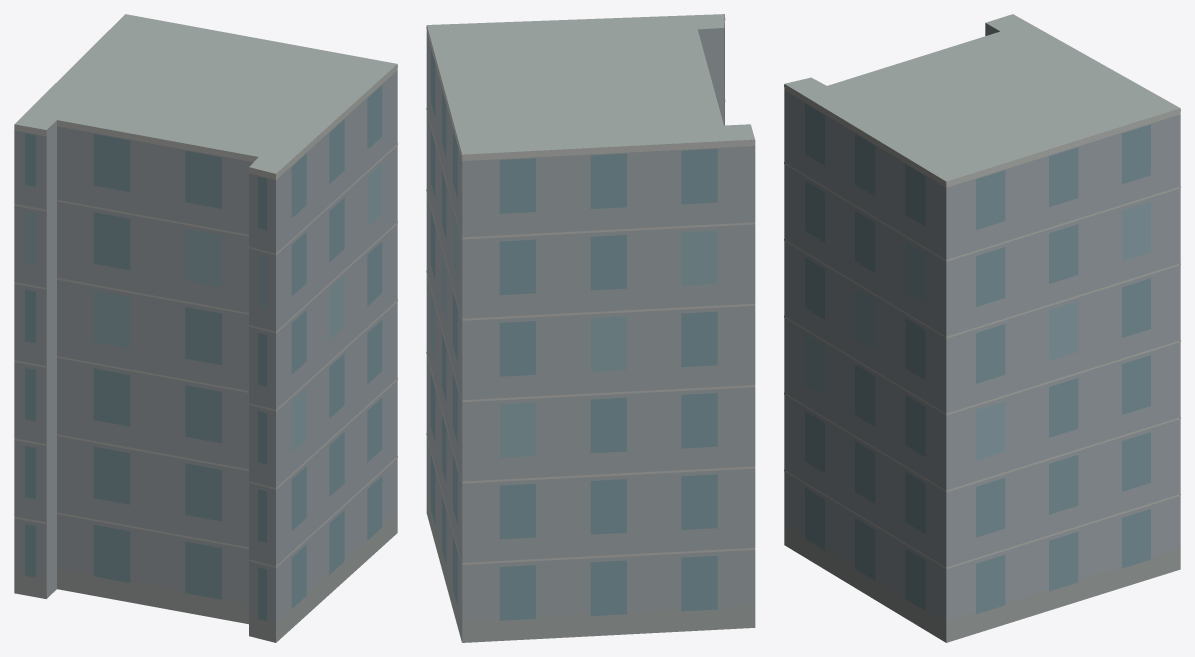
Rendered from survey-upis-32959560.glb.
3 renders of one model, left to right at view 1: azimuth 30°, elevation 25°; view 2: azimuth 150°, elevation 25°; view 3: azimuth 270°, elevation 25°, orthographic. The views are drawn at different scales.
Visible parts, largest first — view 1: survey-upis-32959560.tmp; view 2: survey-upis-32959560.tmp; view 3: survey-upis-32959560.tmp.
Boxes of the visible parts, bbox=[...] form: survey-upis-32959560.tmp: bbox=[14, 14, 397, 642]; survey-upis-32959560.tmp: bbox=[426, 14, 755, 642]; survey-upis-32959560.tmp: bbox=[784, 14, 1180, 642].
Bounding box in the file's own units: 14.32 × 18.35 × 14.31.
